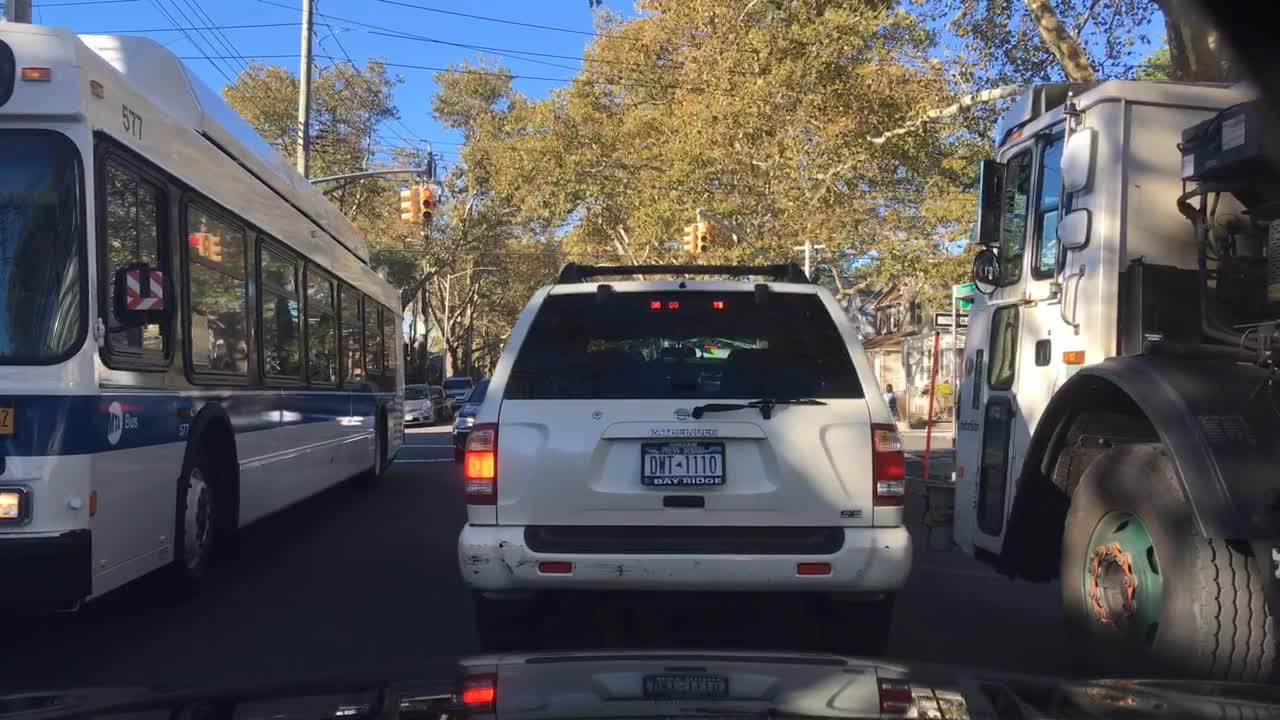bus: (0, 19, 404, 635)
car: (455, 262, 913, 654), (450, 380, 492, 462), (403, 383, 436, 429), (422, 383, 450, 423), (443, 374, 469, 411)
person: (883, 381, 897, 422)
traffic light: (396, 184, 420, 226), (695, 223, 712, 256), (418, 187, 432, 224), (681, 224, 695, 252)
traffic sign: (932, 310, 969, 328), (953, 284, 974, 296), (955, 298, 973, 308)
truck: (925, 74, 1279, 686)
